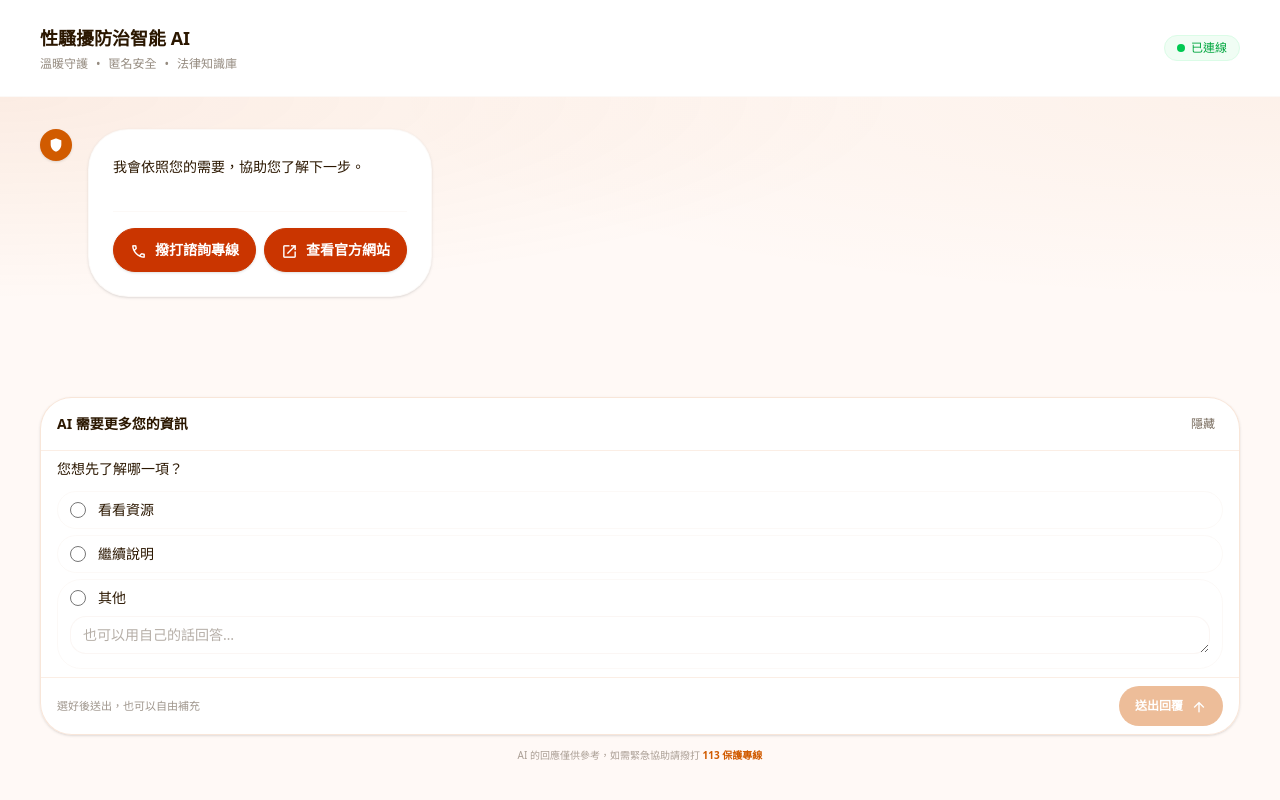
ChatArea follow-up integration › sends the configured option value only after the user submits their selection
Expected: the text "已連線" is shown, left=1191, top=40, right=1227, bottom=56
Click the radio button labelled "看看資源". click: click(78, 510)
box: left=70, top=502, right=86, bottom=518
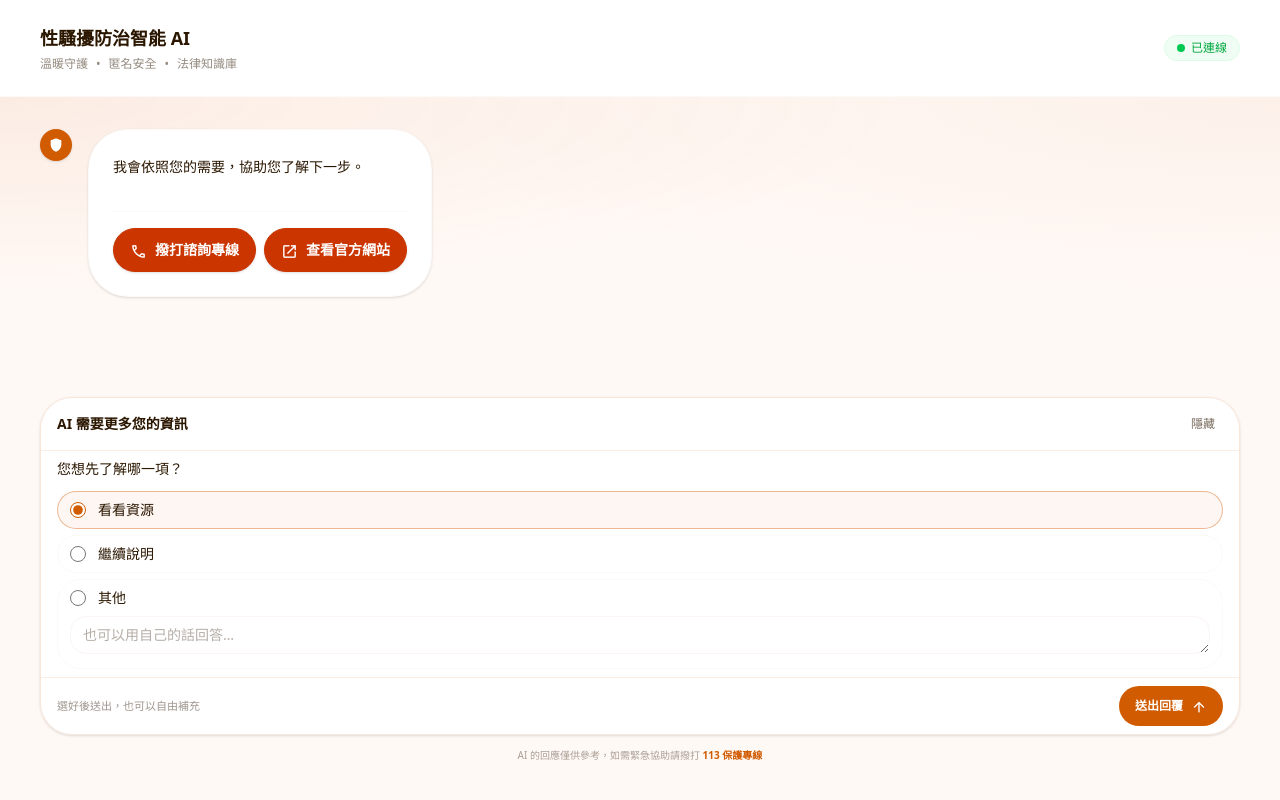
Click the button "送出回覆". click: click(1171, 706)
box: left=1119, top=686, right=1223, bottom=726
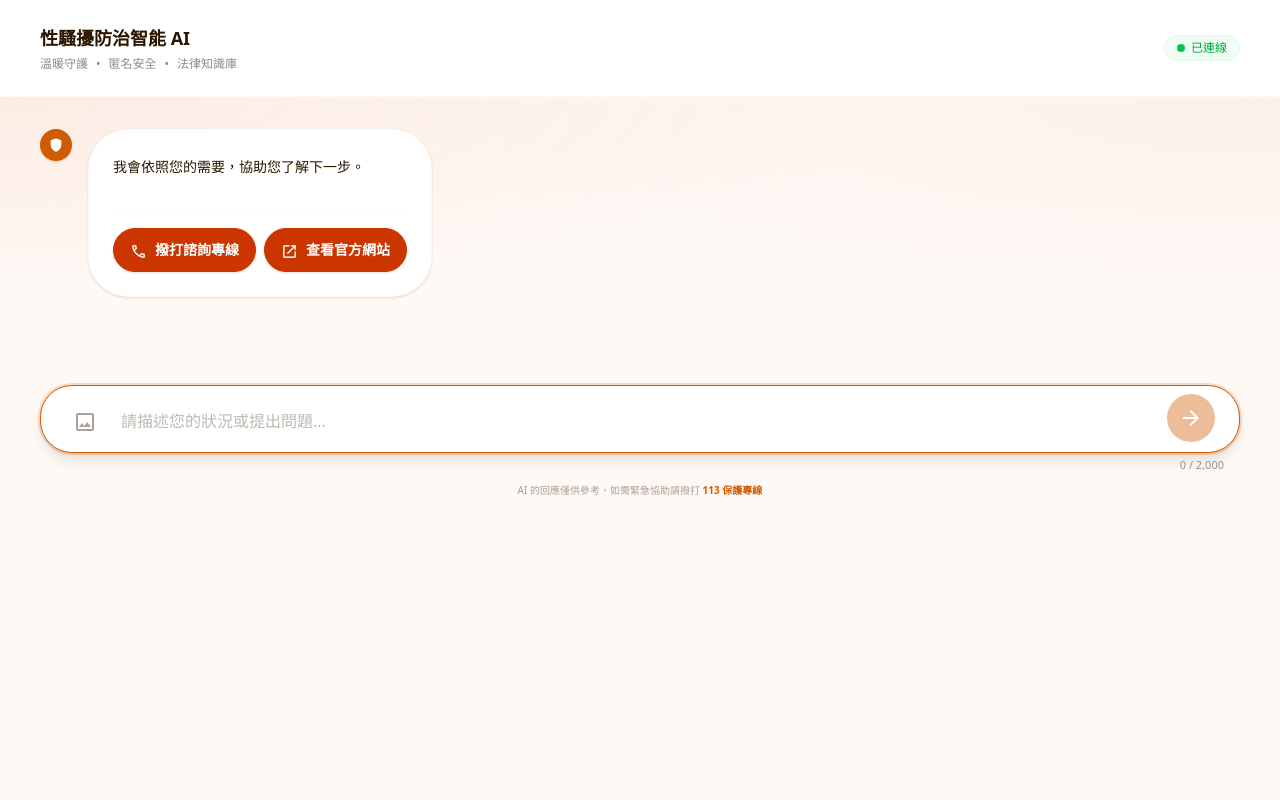
Now the text box with placeholder "請描述您的狀況或提出問題…" is shown, box left=105, top=398, right=1167, bottom=444
